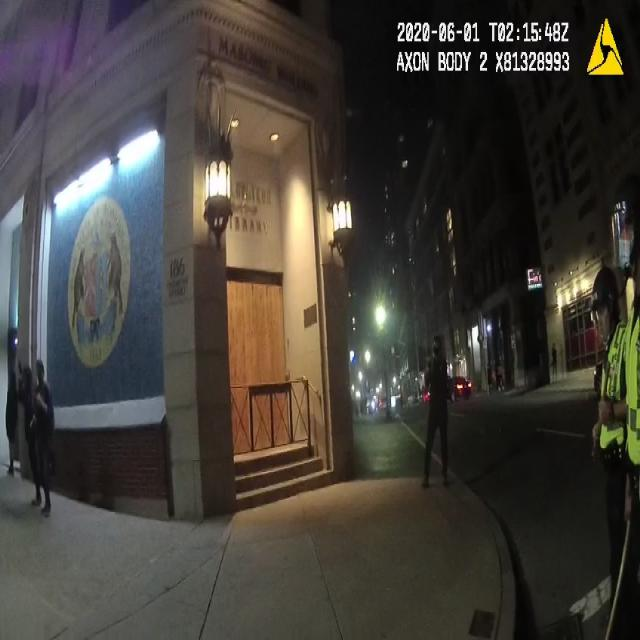cop: (586, 264, 636, 640), (419, 338, 451, 492), (30, 363, 54, 519)
police baton: (605, 512, 631, 636)
